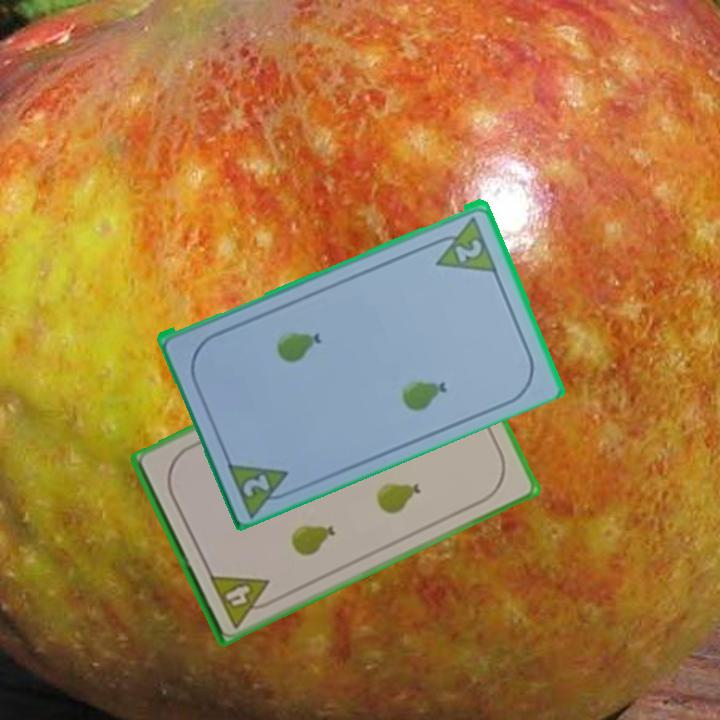2p: (223, 455, 300, 518), (451, 235, 486, 265)
4p: (205, 570, 279, 631)
